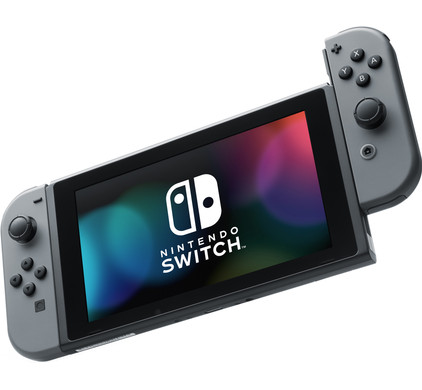NintendoSwitch: (2, 27, 422, 363)
